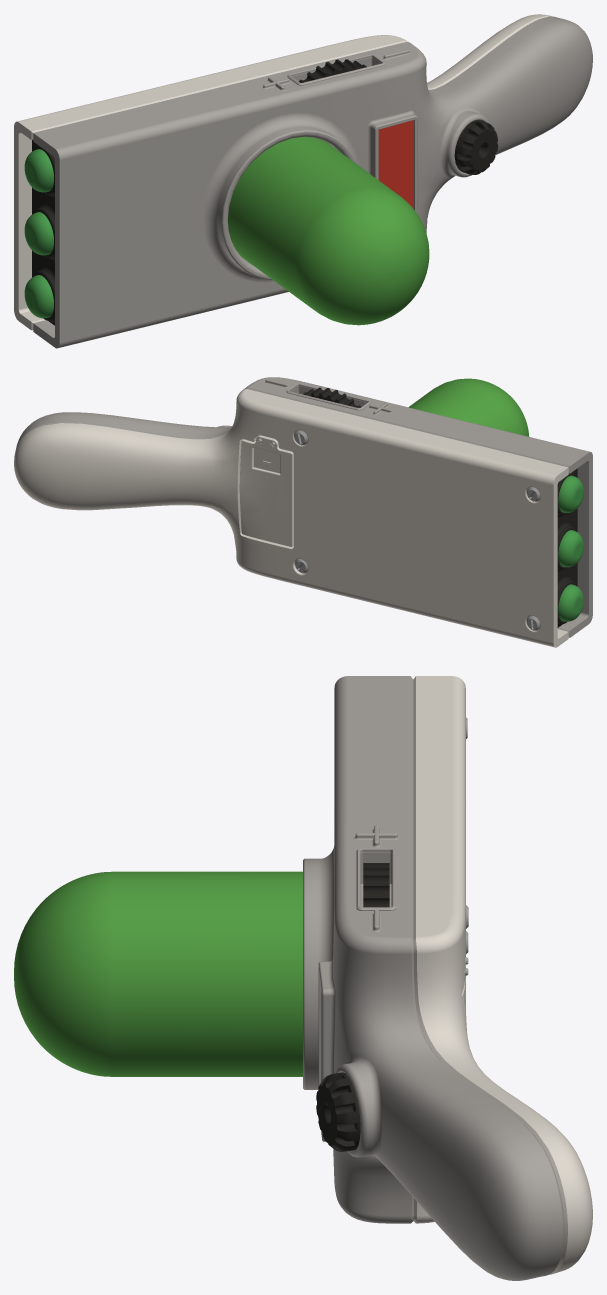
File: portal-gun.fbx
3 views of the same model, one above another, from view 1: azimuth 30°, elevation 25°; view 2: azimuth 150°, elevation 25°; view 3: azimuth 270°, elevation 25° (orthographic). The views are drawn at different scales.
Visible parts, largest first — view 1: Body16, Body28, Body1, Body15, Body12, Body4, Body8, Body9, Body10, Body31, Body32; view 2: Body1, Body16, Body28, Body4, Body10, Body8, Body9, Body31, Body32; view 3: Body16, Body28, Body1, Body12, Body31, Body32.
Boxes of the visible parts, box(x1,y1,x2,y2) form: Body16: box(33, 16, 592, 348); Body28: box(228, 137, 429, 325); Body1: box(14, 14, 552, 330); Body15: box(378, 120, 413, 208); Body12: box(454, 120, 498, 174); Body4: box(32, 140, 54, 325); Body8: box(24, 149, 53, 192); Body9: box(24, 212, 53, 255); Body10: box(24, 275, 53, 318); Body31: box(299, 59, 366, 82); Body32: box(287, 54, 385, 85); Body1: box(14, 389, 568, 647); Body16: box(16, 377, 592, 637); Body28: box(408, 378, 529, 436); Body4: box(557, 468, 577, 627); Body10: box(558, 584, 583, 621); Body8: box(558, 475, 583, 512); Body9: box(558, 530, 583, 567); Body31: box(302, 387, 360, 407); Body32: box(286, 383, 371, 410); Body16: box(303, 676, 564, 1280); Body28: box(14, 871, 302, 1076); Body1: box(413, 676, 592, 1274); Body12: box(316, 1072, 360, 1151); Body31: box(363, 863, 389, 907); Body32: box(356, 848, 396, 910).
Bounding box in the file's own units: 191 × 65.96 × 110.
